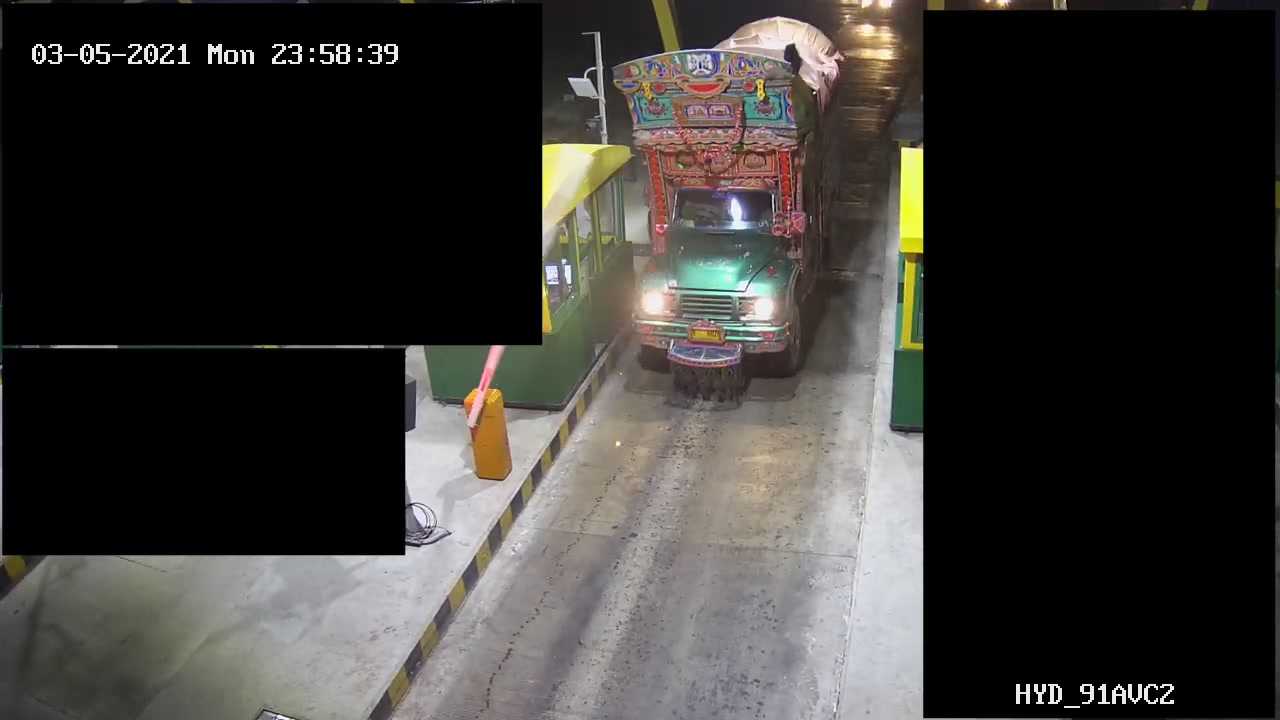F5: (611, 12, 855, 405)
